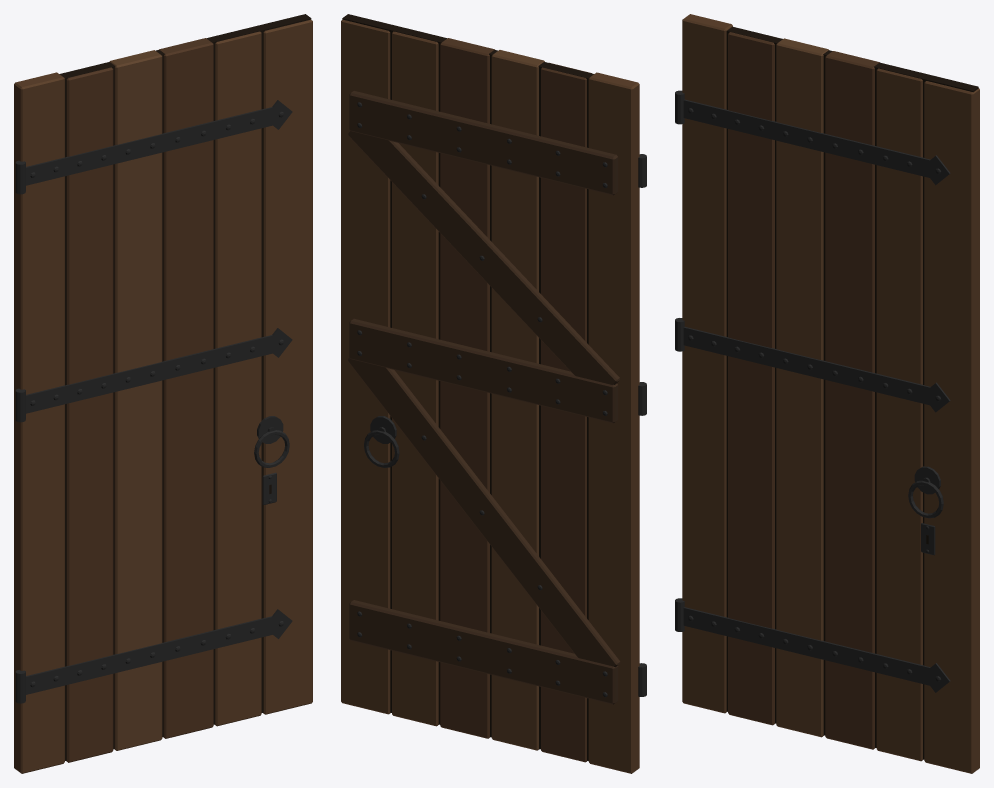
The model's file is puerta-ancha.glb.
3 views of the same model, side by side, from view 1: azimuth 30°, elevation 25°; view 2: azimuth 150°, elevation 25°; view 3: azimuth 330°, elevation 25° (orthographic).
Parts seen in each view (by area): view 1: PuertaAncha_hoja, Aldaba; view 2: PuertaAncha_hoja, Aldaba; view 3: PuertaAncha_hoja, Aldaba.
Part boxes in pixels (x1=…): PuertaAncha_hoja: x1=14, y1=14, x2=312, y2=773; Aldaba: x1=254, y1=416, x2=289, y2=467; PuertaAncha_hoja: x1=341, y1=14, x2=646, y2=773; Aldaba: x1=364, y1=416, x2=399, y2=467; PuertaAncha_hoja: x1=675, y1=14, x2=979, y2=773; Aldaba: x1=908, y1=466, x2=943, y2=518.
Bounding box in the file's own units: 1.05 × 2.32 × 0.1079.
